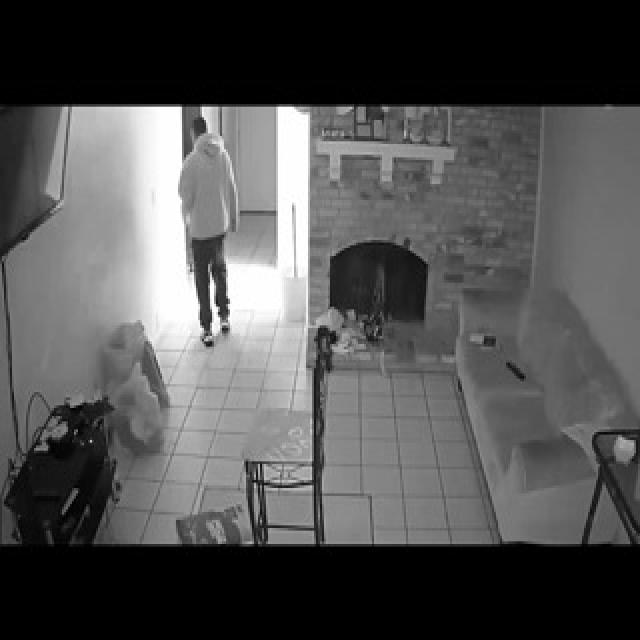thief: (175, 108, 236, 231)
